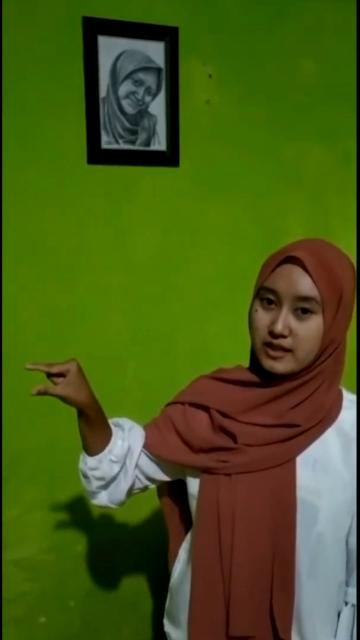G: (18, 353, 104, 413)
